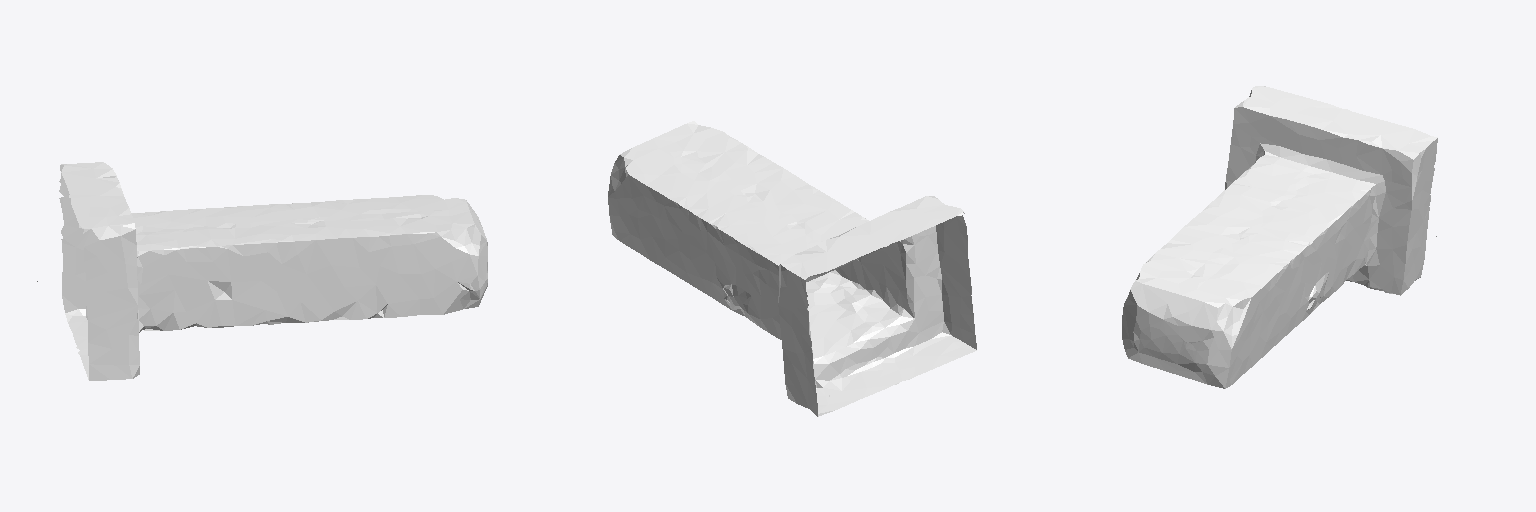
File: japanese-tomb-2-shikotan-low.obj
3 renders of one model, left to right at view 1: azimuth 30°, elevation 25°; view 2: azimuth 150°, elevation 25°; view 3: azimuth 270°, elevation 25°, orthographic.
Size of the model in its own units: 7.04 by 2.9 by 5.13.